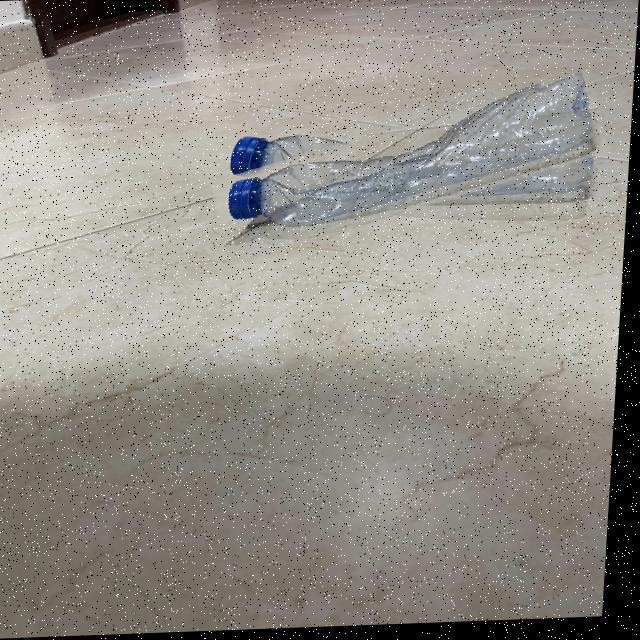litter: (213, 96, 612, 243)
